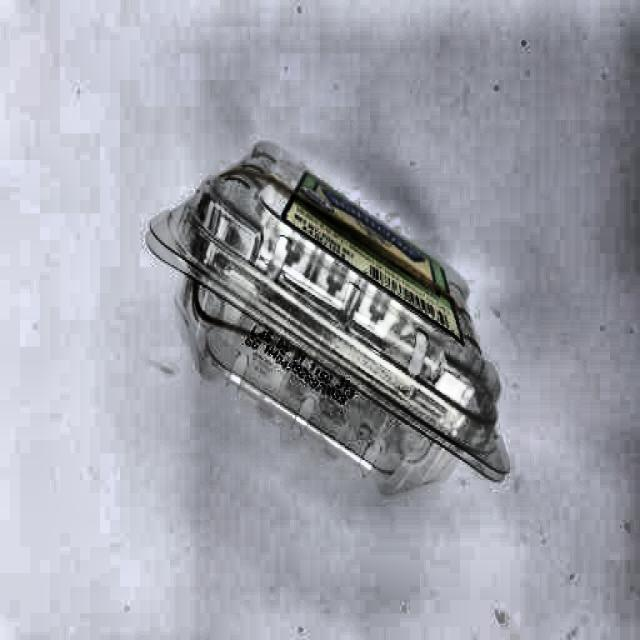plastic: (145, 141, 513, 496)
